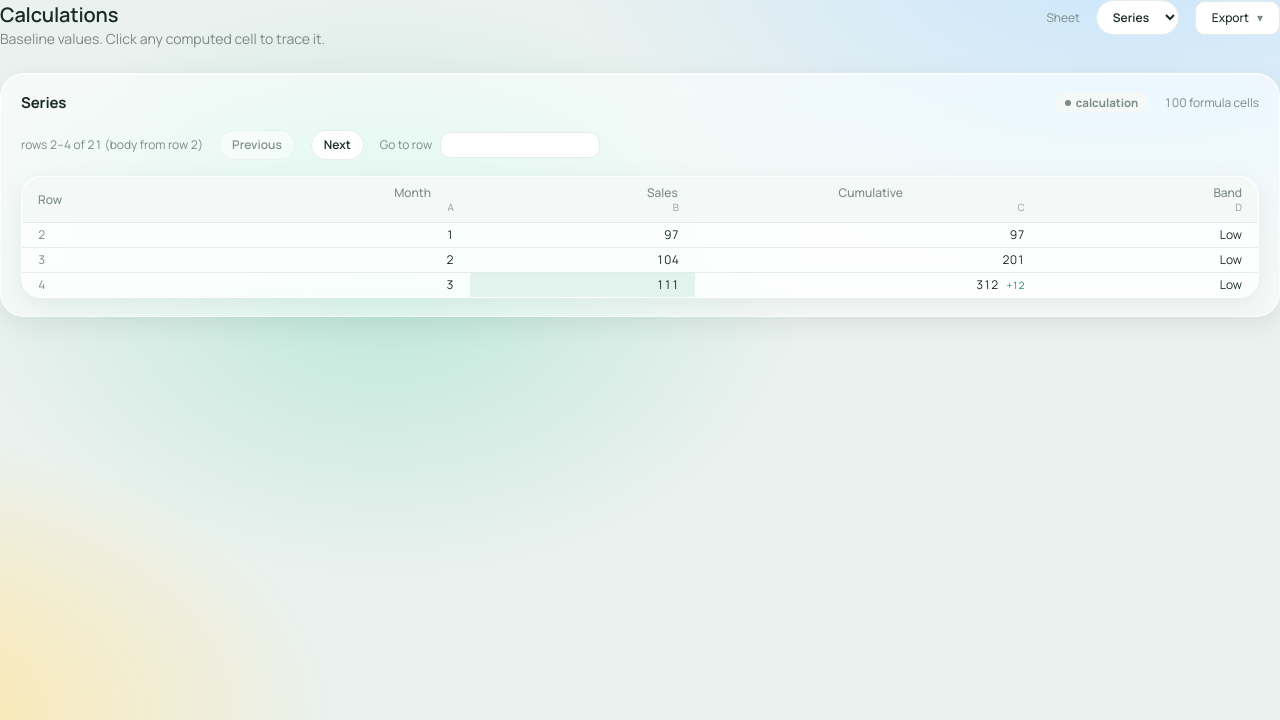
Test: CalculationsPage › mirrors the sheet and opens the lineage panel from a computed cell
expect the text "Cumulative" is shown: met, box [839,184,903,201]
expect the text "rows 2–4 of 21 (body from row 2)" is shown: met, box [21,137,203,153]
Click the cell titled "D4 · formula" in the row of "111" at (1231, 285), box [1041,273,1258,297]
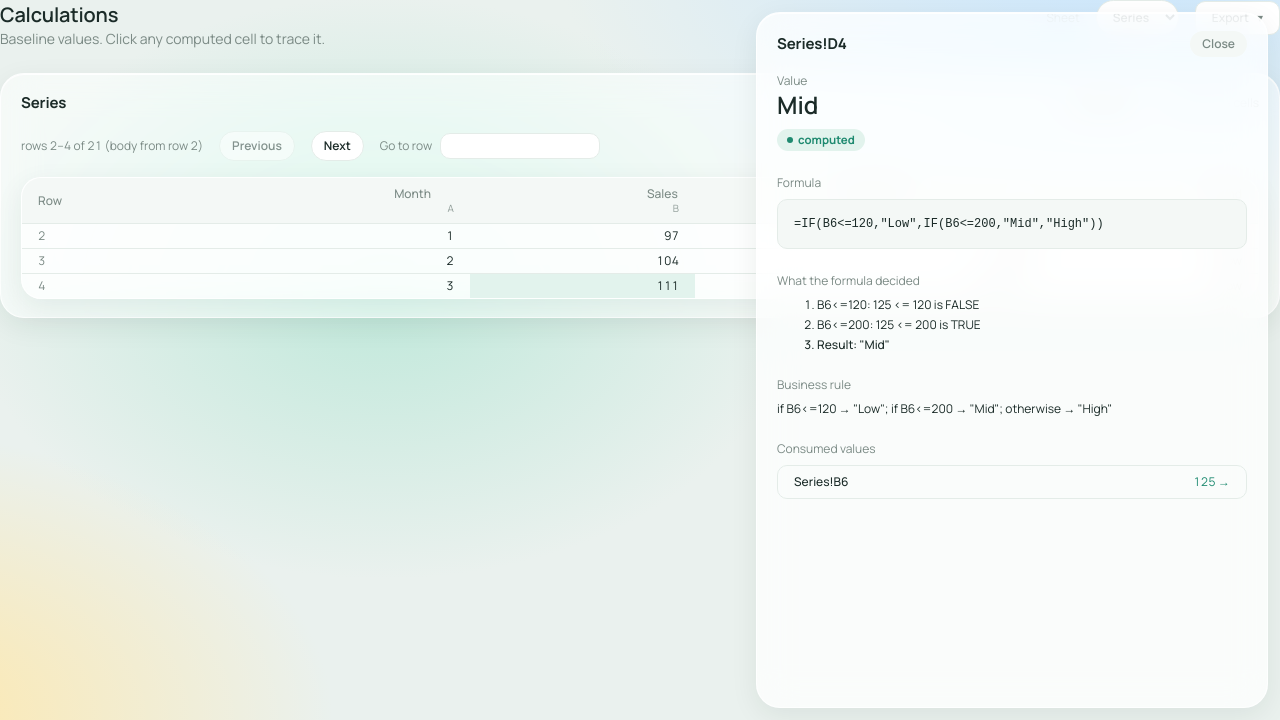
expect the dialog "Series!D4" shows "=IF(B6<=120,\"Low\",IF(B6<=200,\"Mid\",\"High\"))": met, box [794,217,1104,231]
expect the dialog "Series!D4" shows "125 <= 200 is TRUE": met, box [817,316,981,333]
expect the dialog "Series!D4" shows "Business rule": met, box [777,376,851,393]
Click the button named "Explain Series!B6" at (1212, 482), box [1193,474,1230,490]
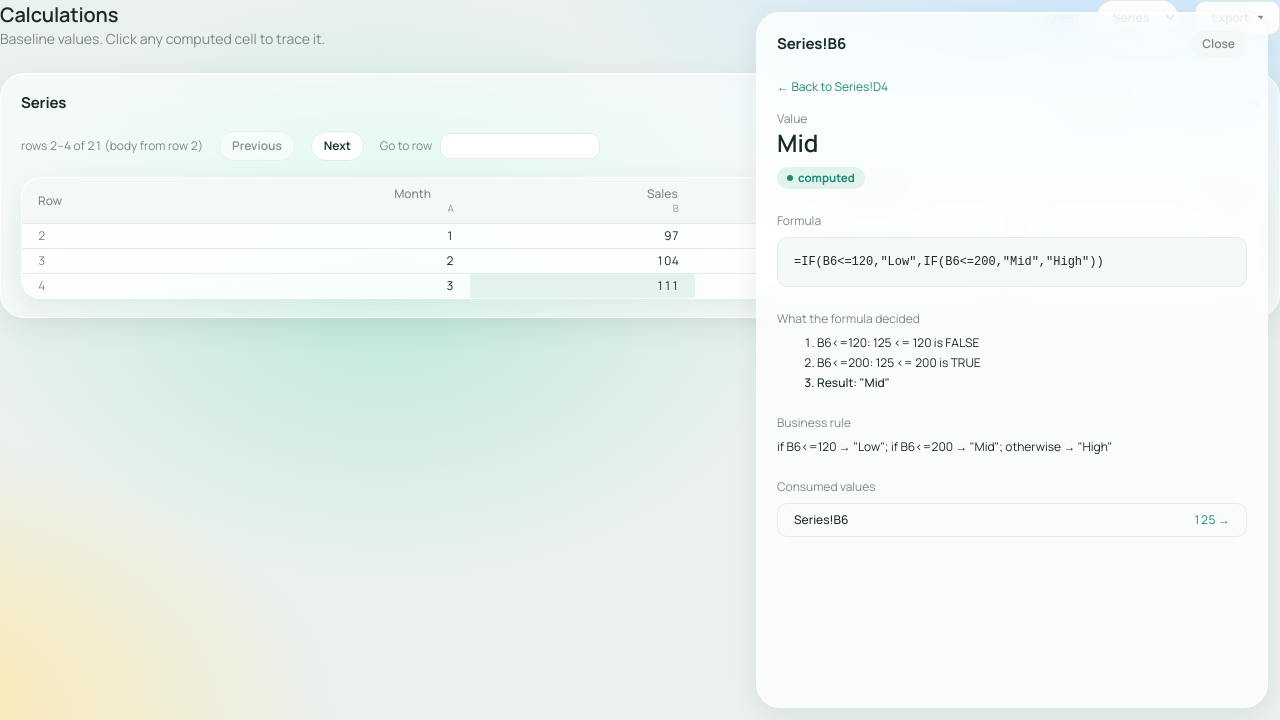
expect the dialog "Series!B6" is shown: met, box [756,12,1268,708]
Click the button "← Back to Series!D4" at (832, 87), box [777,79,888,95]
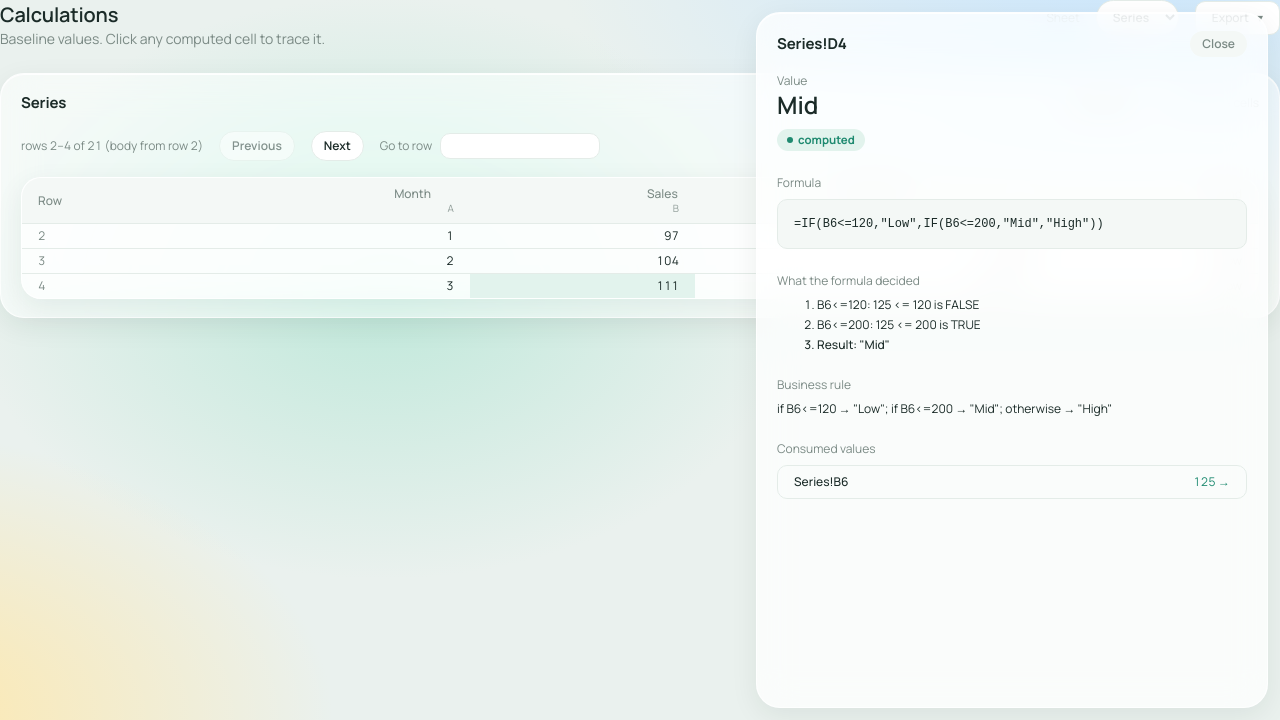
expect the dialog "Series!D4" is shown: met, box [756,12,1268,708]
Click the button with aria-label "Close panel" at (1219, 44), box [1190,31,1247,57]
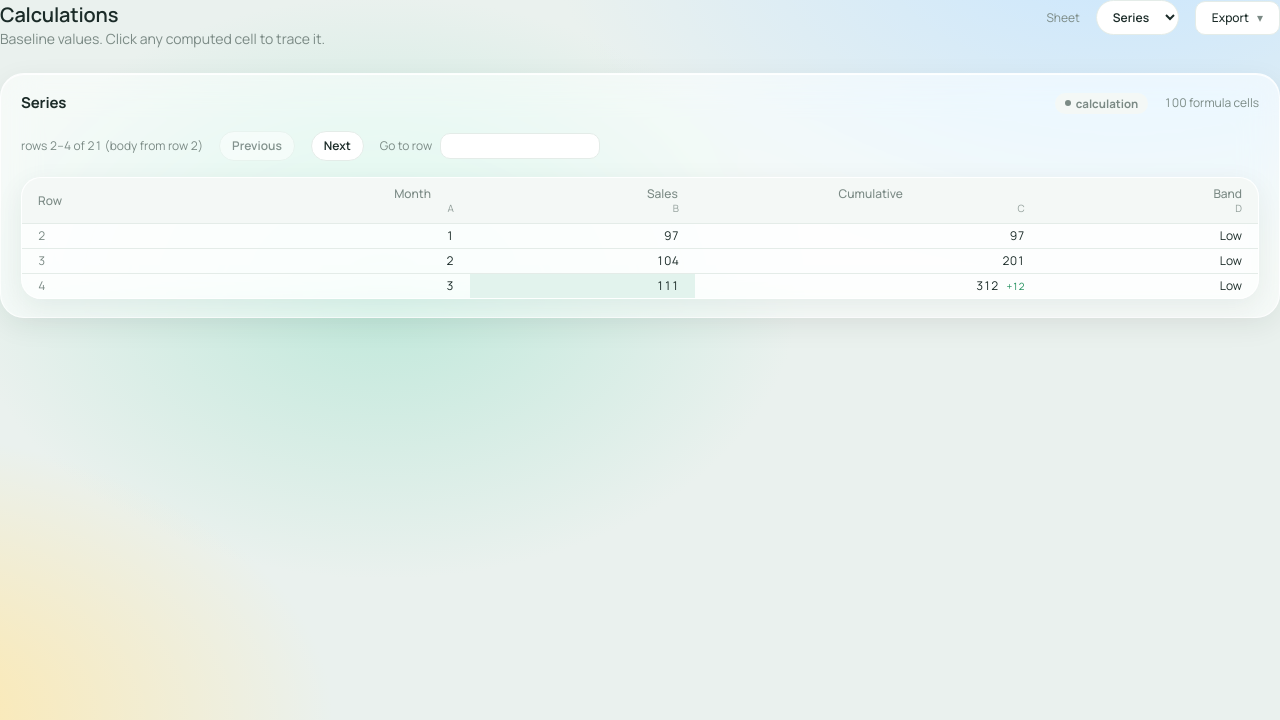
expect the dialog is gone: met
